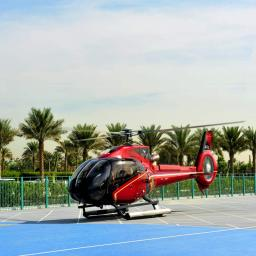helicopter: (59, 119, 250, 228)
